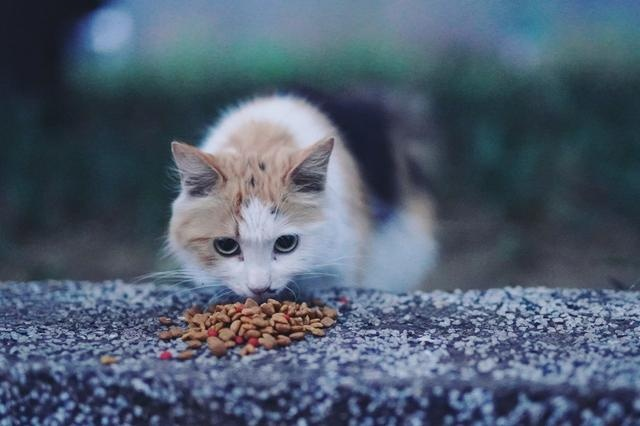cat: (161, 92, 437, 302)
